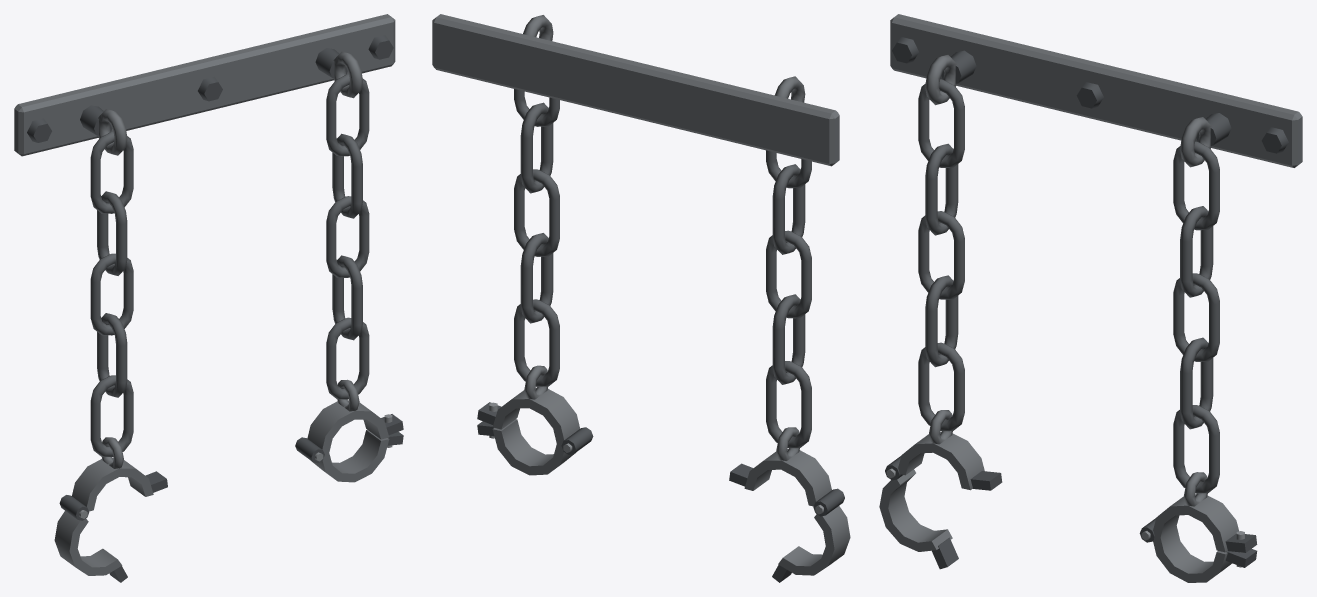
Rendered from SM_LPD_Prison_ManaclesWall_01.fbx.
3 views of the same model, side by side, from view 1: azimuth 30°, elevation 25°; view 2: azimuth 150°, elevation 25°; view 3: azimuth 330°, elevation 25° (orthographic). The views are drawn at different scales.
Parts seen in each view (by area): view 1: SM_LPD_Prison_ManaclesWall_01; view 2: SM_LPD_Prison_ManaclesWall_01; view 3: SM_LPD_Prison_ManaclesWall_01.
Boxes of the visible parts, x1,y1,x2,y2 form: SM_LPD_Prison_ManaclesWall_01: (14,14,403,582); SM_LPD_Prison_ManaclesWall_01: (432,14,850,582); SM_LPD_Prison_ManaclesWall_01: (879,14,1302,582).
Size of the model in its own units: 0.64 by 0.7663 by 0.1225.
